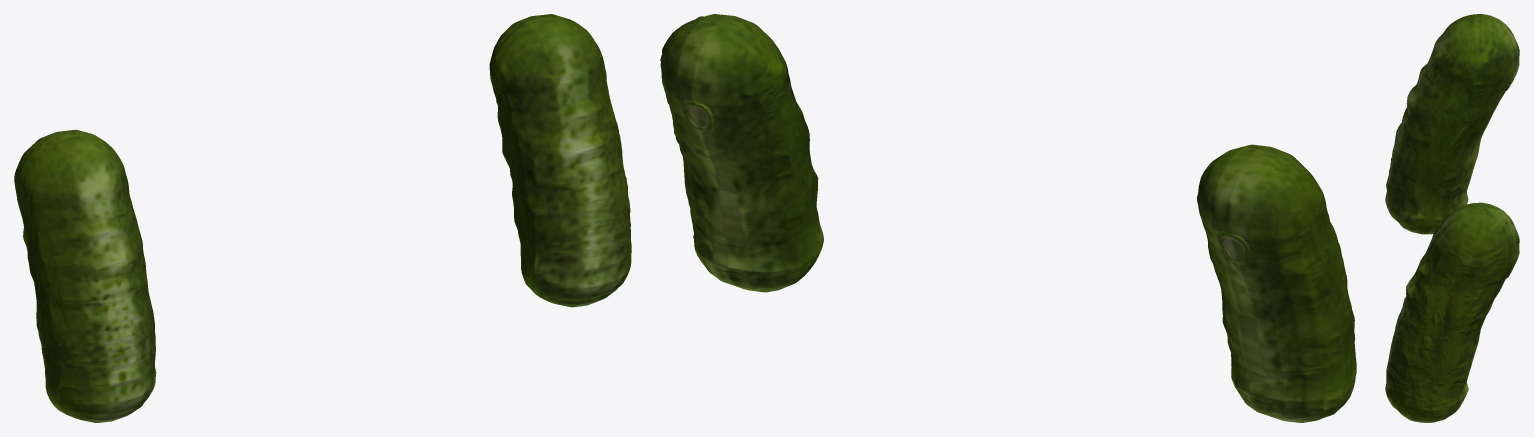
Rendered from Actinomyces_israelii.glb.
The picture shows the model from 3 angles, left to right: view 1: azimuth 30°, elevation 25°; view 2: azimuth 150°, elevation 25°; view 3: azimuth 270°, elevation 25°; orthographic projection. The views are drawn at different scales.
Parts seen in each view (by area): view 1: tripo_node_28d99cdc-4da3-4ef4-ae8d-1fc4a6de85ce; view 2: tripo_node_28d99cdc-4da3-4ef4-ae8d-1fc4a6de85ce; view 3: tripo_node_28d99cdc-4da3-4ef4-ae8d-1fc4a6de85ce.
Part boxes in pixels (left/top/right/bottom): tripo_node_28d99cdc-4da3-4ef4-ae8d-1fc4a6de85ce: left=14, top=14, right=631, bottom=422; tripo_node_28d99cdc-4da3-4ef4-ae8d-1fc4a6de85ce: left=660, top=14, right=1356, bottom=422; tripo_node_28d99cdc-4da3-4ef4-ae8d-1fc4a6de85ce: left=1385, top=14, right=1519, bottom=422.
Size of the model in its own units: 1 by 0.4292 by 0.2479.
Materials: 1 (1 with a texture image).
